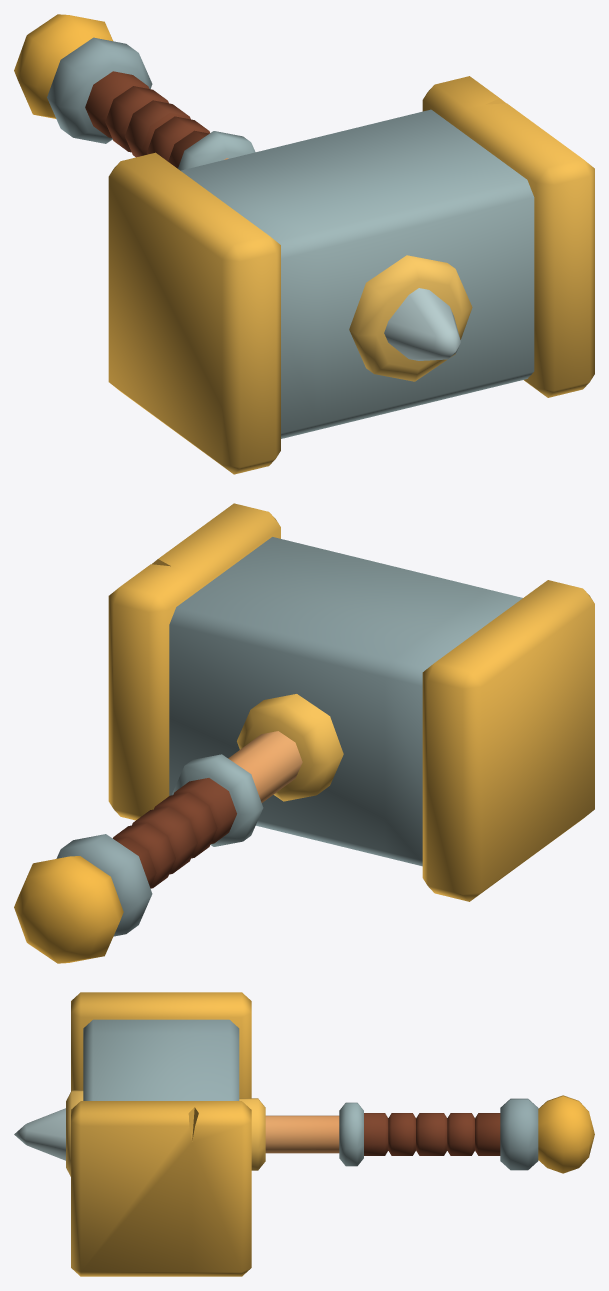
File: hammer_01.fbx
3 renders of one model, top to bottom at view 1: azimuth 30°, elevation 25°; view 2: azimuth 150°, elevation 25°; view 3: azimuth 270°, elevation 25°, orthographic. The views are drawn at different scales.
Visible parts, largest first — view 1: hammer_01; view 2: hammer_01; view 3: hammer_01.
Boxes of the visible parts, box(x1,y1,x2,y2) form: hammer_01: box(14, 14, 594, 474); hammer_01: box(14, 503, 594, 963); hammer_01: box(14, 992, 594, 1276).
Bounding box in the file's own units: 0.4763 × 0.2813 × 0.9052.
3 materials, 3 textured.
